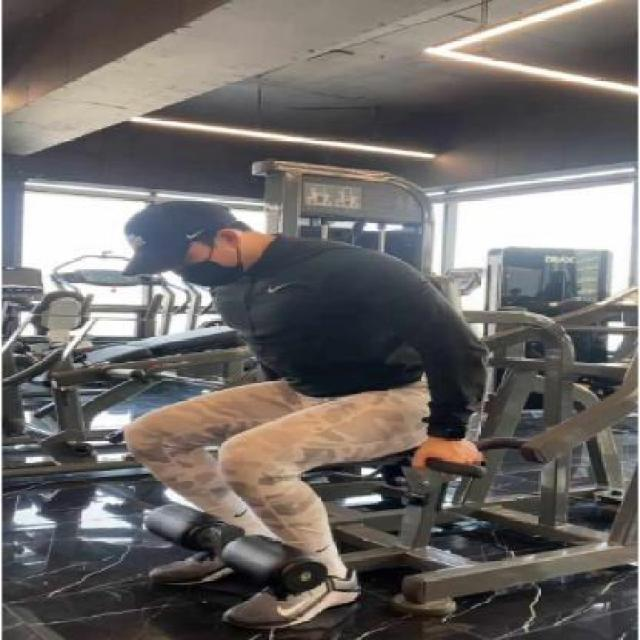seated dip machine: (109, 154, 640, 626)
